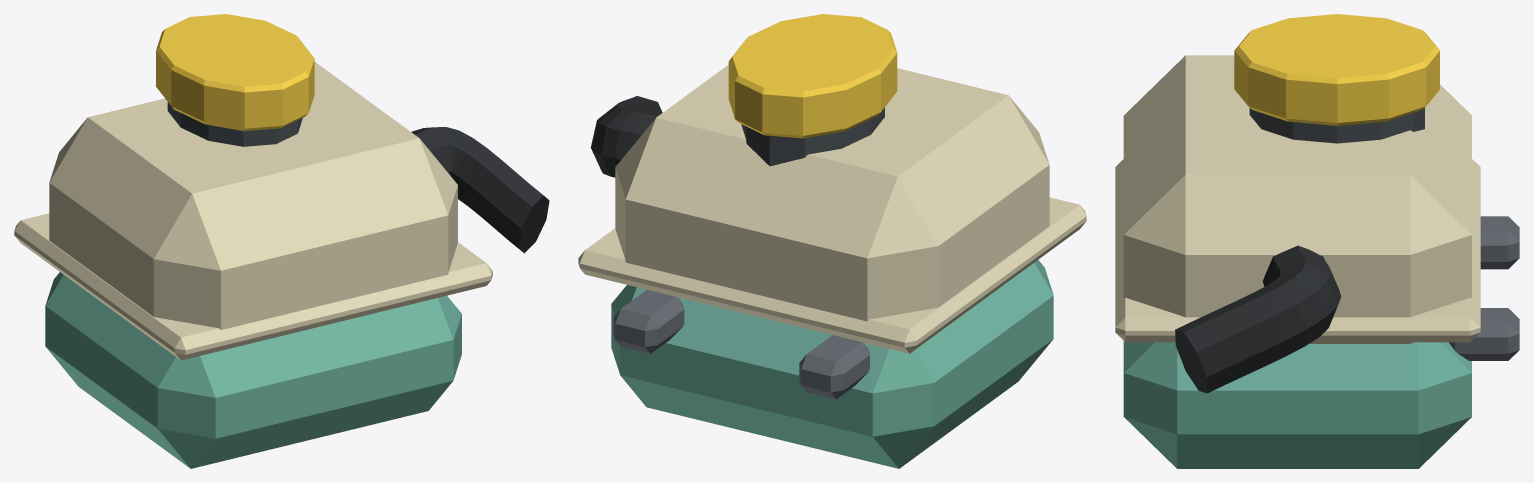
The model's file is coolantreservoir.glb.
3 renders of one model, left to right at view 1: azimuth 30°, elevation 25°; view 2: azimuth 150°, elevation 25°; view 3: azimuth 270°, elevation 25°, orthographic. The views are drawn at different scales.
Visible parts, largest first — view 1: CoolantReservoir; view 2: CoolantReservoir; view 3: CoolantReservoir.
Boxes of the visible parts, x1=… form: CoolantReservoir: x1=14, y1=14, x2=549, y2=468; CoolantReservoir: x1=578, y1=14, x2=1086, y2=468; CoolantReservoir: x1=1115, y1=14, x2=1519, y2=468.
Size of the model in its own units: 0.78 by 0.61 by 0.62.
